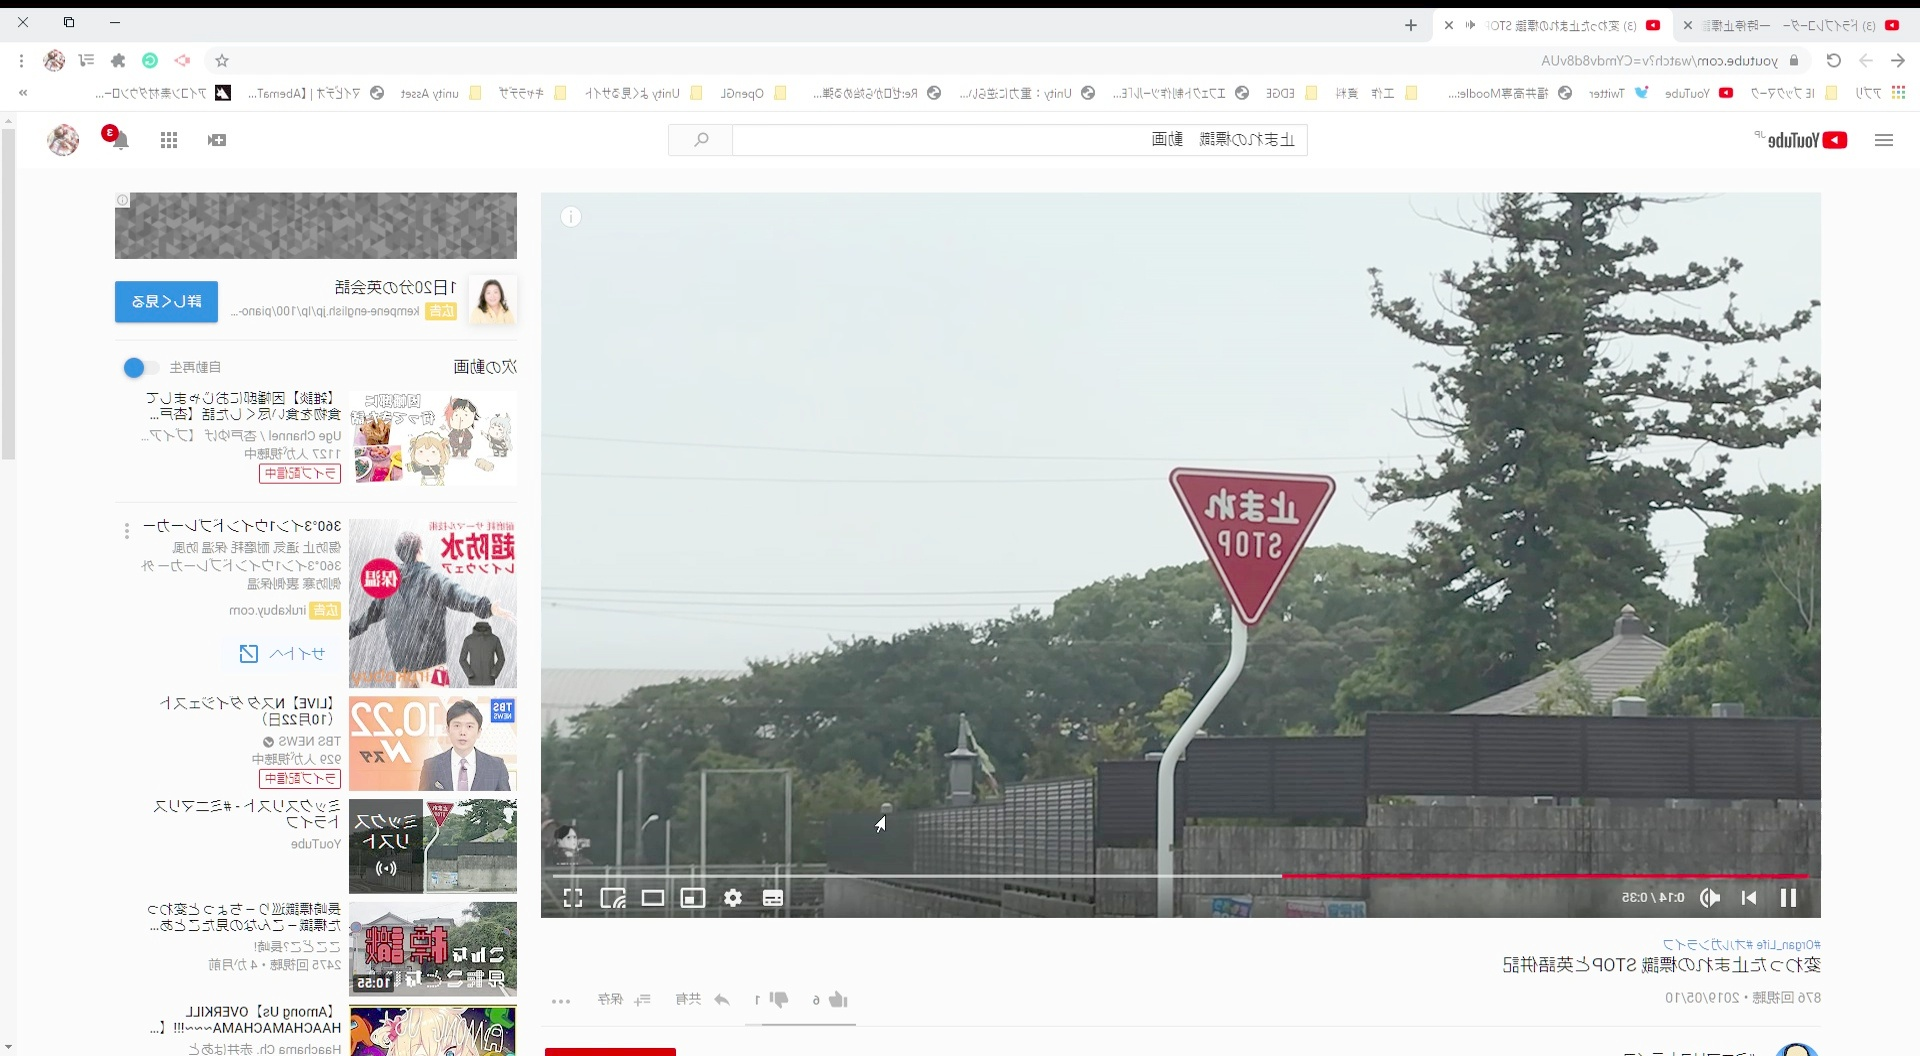Regulatory_sign_triangle: (1169, 453, 1369, 642)
